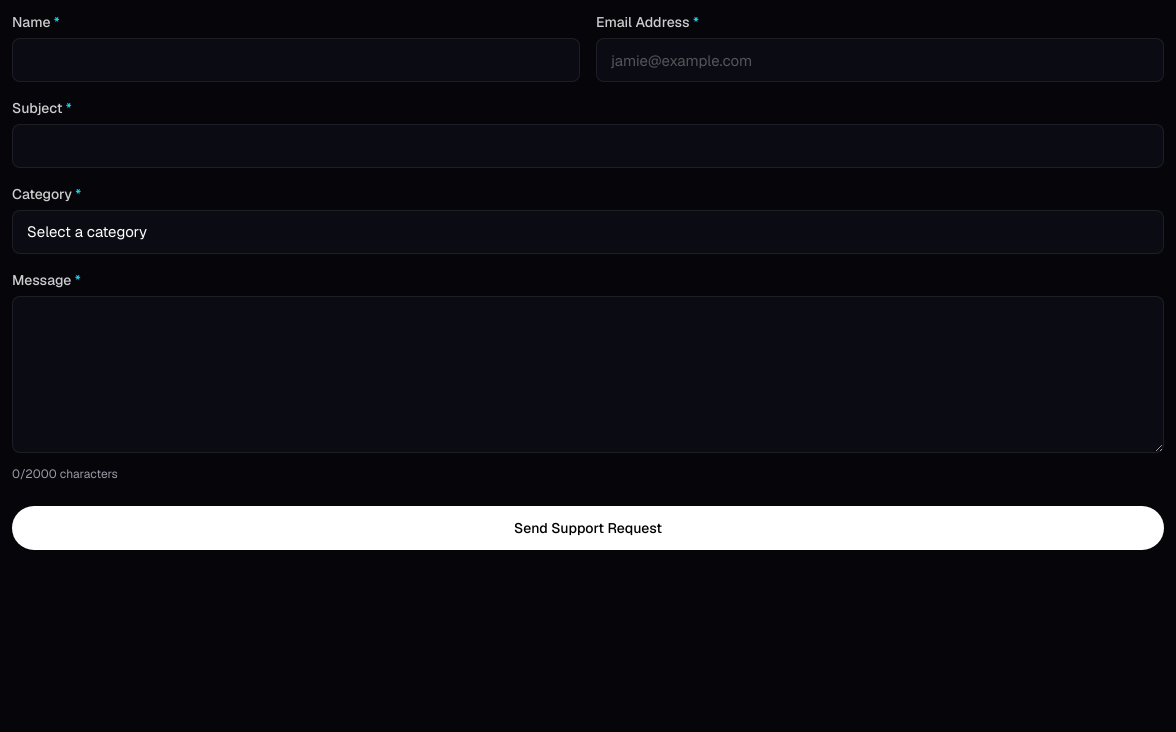
Test: ContactSupportForm — validation › rejects a malformed email
Type "not-an-email" into the field labelled "Email Address" at [880, 60], box [596,38,1164,82]
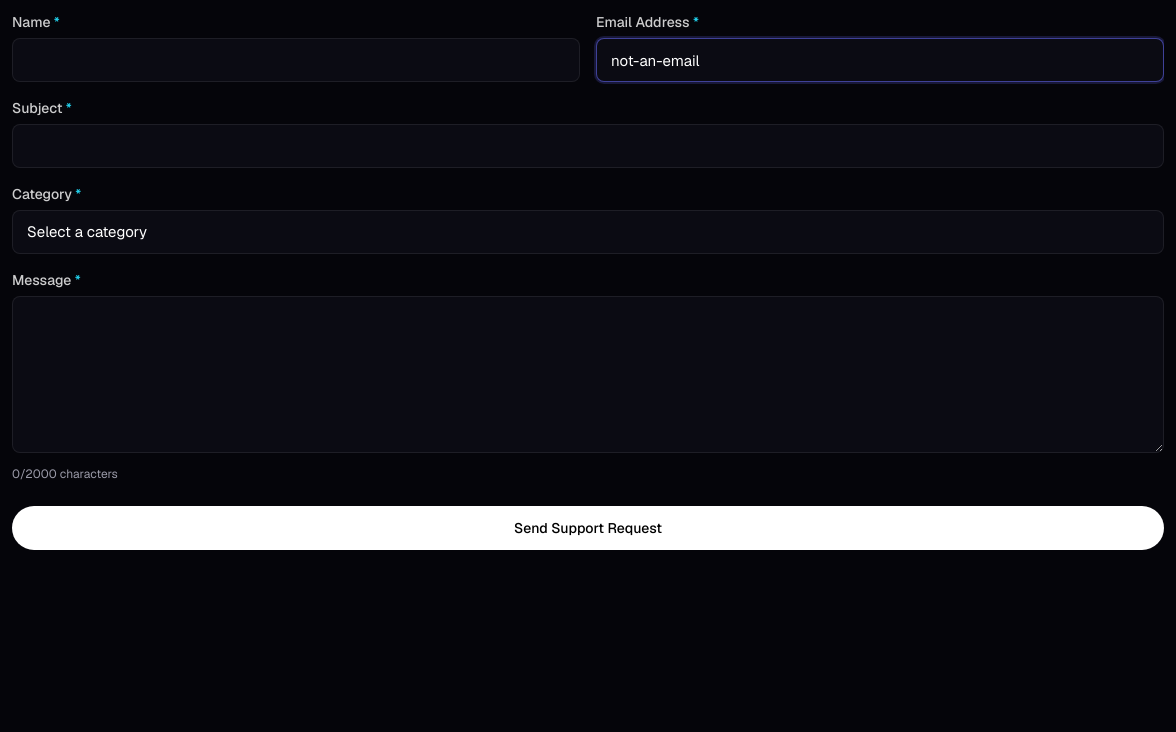
Click the button "Send Support Request" at [588, 528], box [12,506,1164,550]
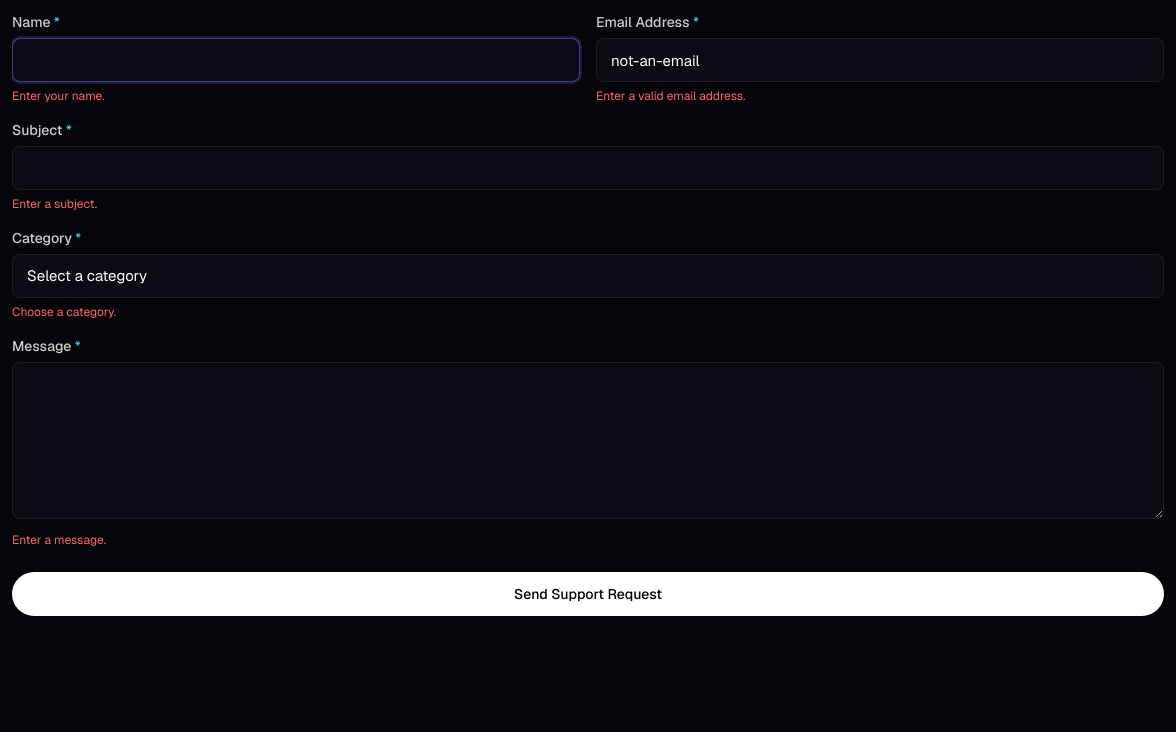
Now the text "Enter a valid email address." is shown, box [596,88,746,104]
